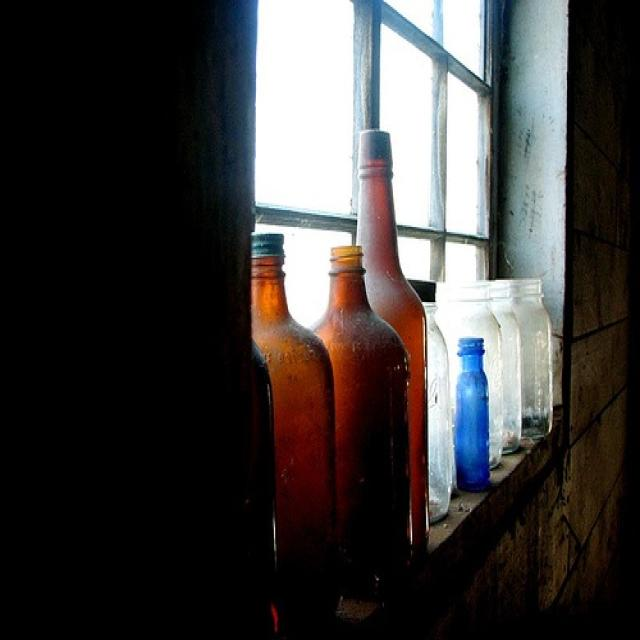bottle: (304, 244, 406, 601), (251, 230, 339, 618), (356, 126, 430, 555), (454, 333, 489, 493)
